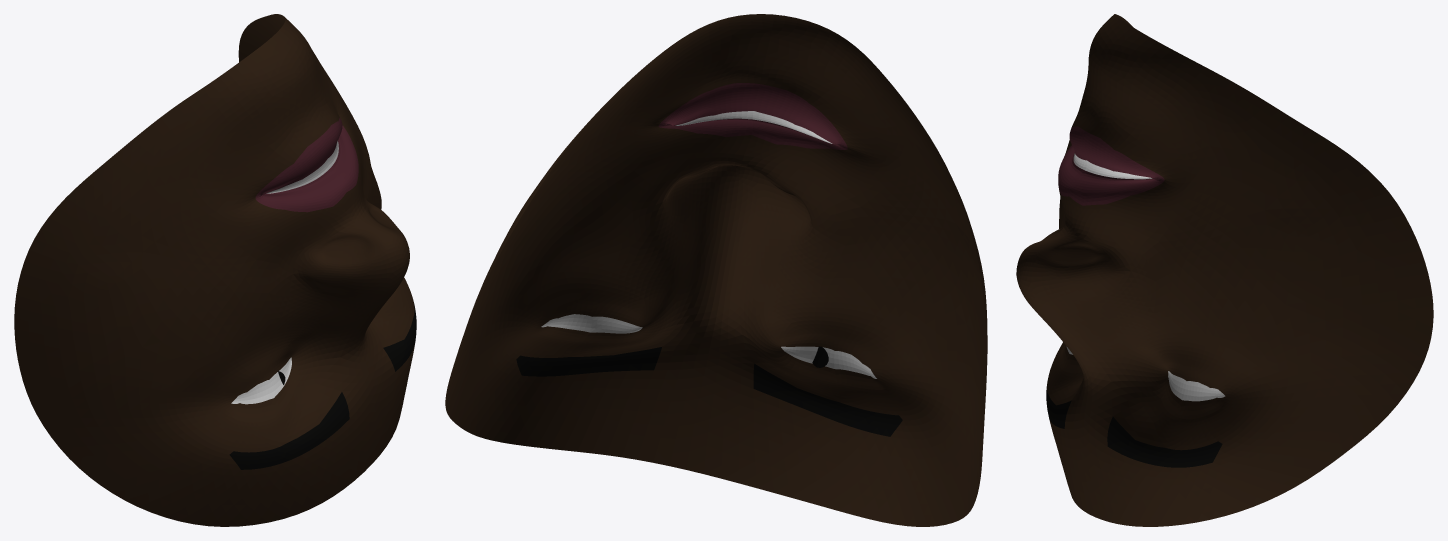
Rendered from frame_00167.obj.
The picture shows the model from 3 angles, left to right: view 1: azimuth 30°, elevation 25°; view 2: azimuth 150°, elevation 25°; view 3: azimuth 270°, elevation 25°; orthographic projection. The views are drawn at different scales.
Parts seen in each view (by area): view 1: face_mesh_subdivided; view 2: face_mesh_subdivided; view 3: face_mesh_subdivided.
Boxes of the visible parts, x1,y1,x2,y2 form: face_mesh_subdivided: [14, 14, 416, 526]; face_mesh_subdivided: [445, 14, 987, 526]; face_mesh_subdivided: [1016, 14, 1433, 526].
Size of the model in its own units: 0.4975 by 0.5325 by 0.4313.
